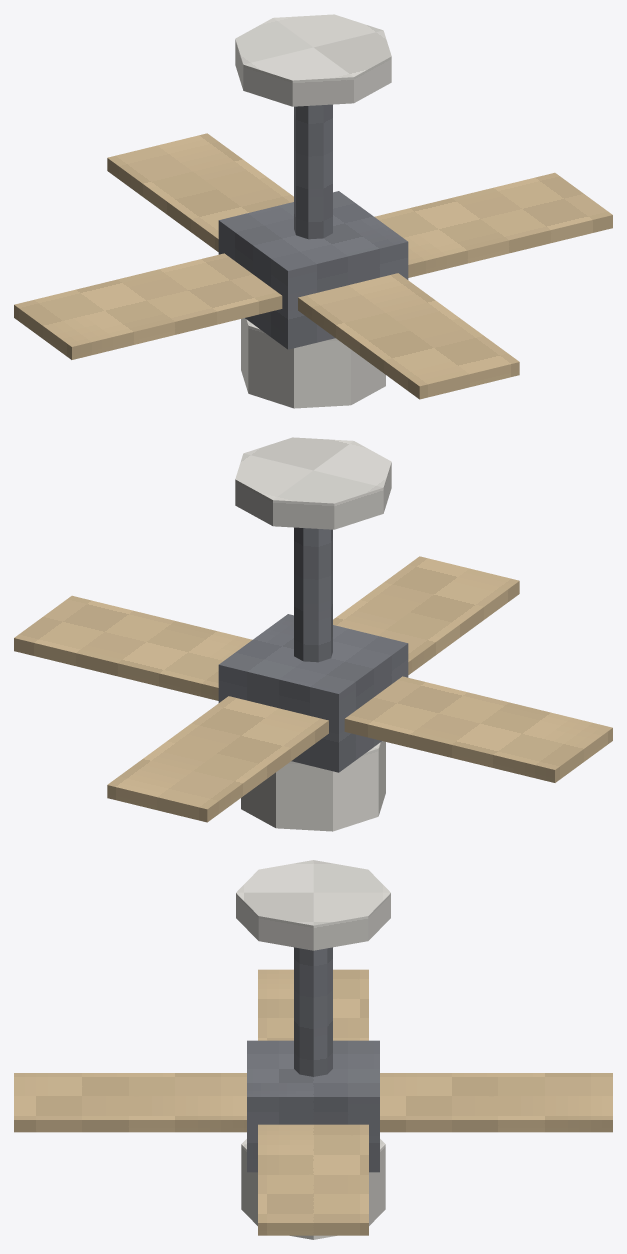
File: pixel-modern-apartments-ceiling-fan-ba4481a4__29844.glb
The picture shows the model from 3 angles, top to bottom: view 1: azimuth 30°, elevation 25°; view 2: azimuth 150°, elevation 25°; view 3: azimuth 270°, elevation 25°; orthographic projection. The views are drawn at different scales.
Visible parts, largest first — view 1: blades, ceiling-fan; view 2: blades, ceiling-fan; view 3: blades, ceiling-fan.
Boxes of the visible parts, x1,y1,x2,y2 form: blades: (14, 133, 612, 399); ceiling-fan: (218, 14, 408, 408); blades: (14, 556, 612, 822); ceiling-fan: (218, 437, 408, 831); blades: (14, 969, 612, 1235); ceiling-fan: (236, 860, 390, 1239).
Size of the model in its own units: 1.08 by 0.63 by 1.08.
Materials: 4 (4 with a texture image).
